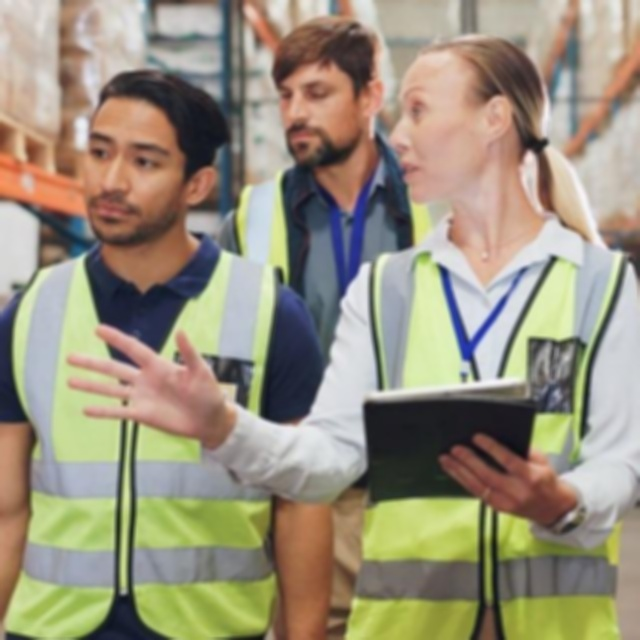Con_Chaleco: (8, 246, 288, 622), (369, 236, 623, 640)
Sin_Casco_Mascarrilla: (396, 33, 550, 204), (82, 70, 210, 243), (271, 12, 380, 164)
